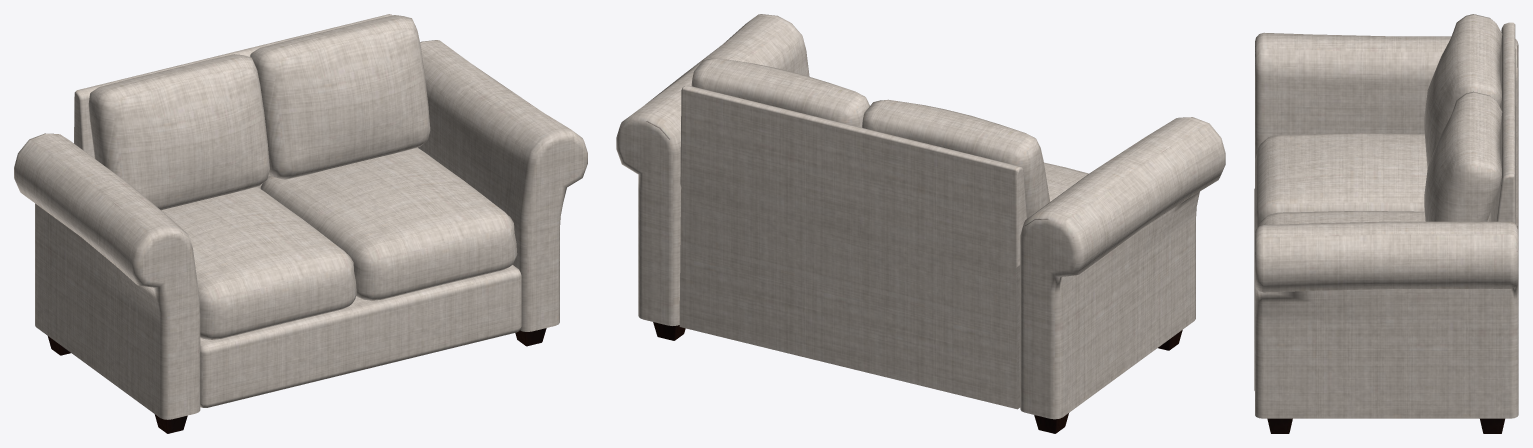
3 renders of one model, left to right at view 1: azimuth 30°, elevation 25°; view 2: azimuth 150°, elevation 25°; view 3: azimuth 270°, elevation 25°, orthographic. The views are drawn at different scales.
Visible parts, largest first — view 1: polySurface28; view 2: polySurface28; view 3: polySurface28.
Part boxes in pixels (box(x1,y1,x2,y2)): polySurface28: box(14, 14, 587, 433); polySurface28: box(616, 14, 1225, 433); polySurface28: box(1254, 14, 1518, 433).
Bounding box in the file's own units: 1.43 × 0.7859 × 0.7264.
Materials: 1 (1 with a texture image).
